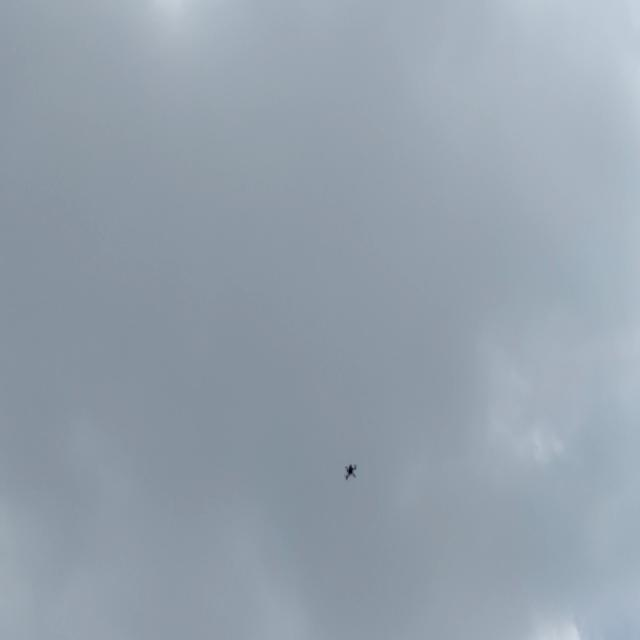drone: (338, 459, 362, 483)
